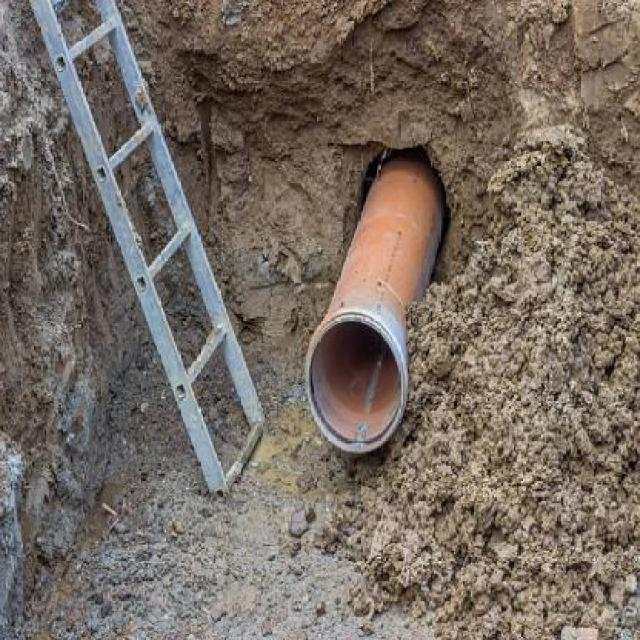pipe: (305, 315, 407, 454)
